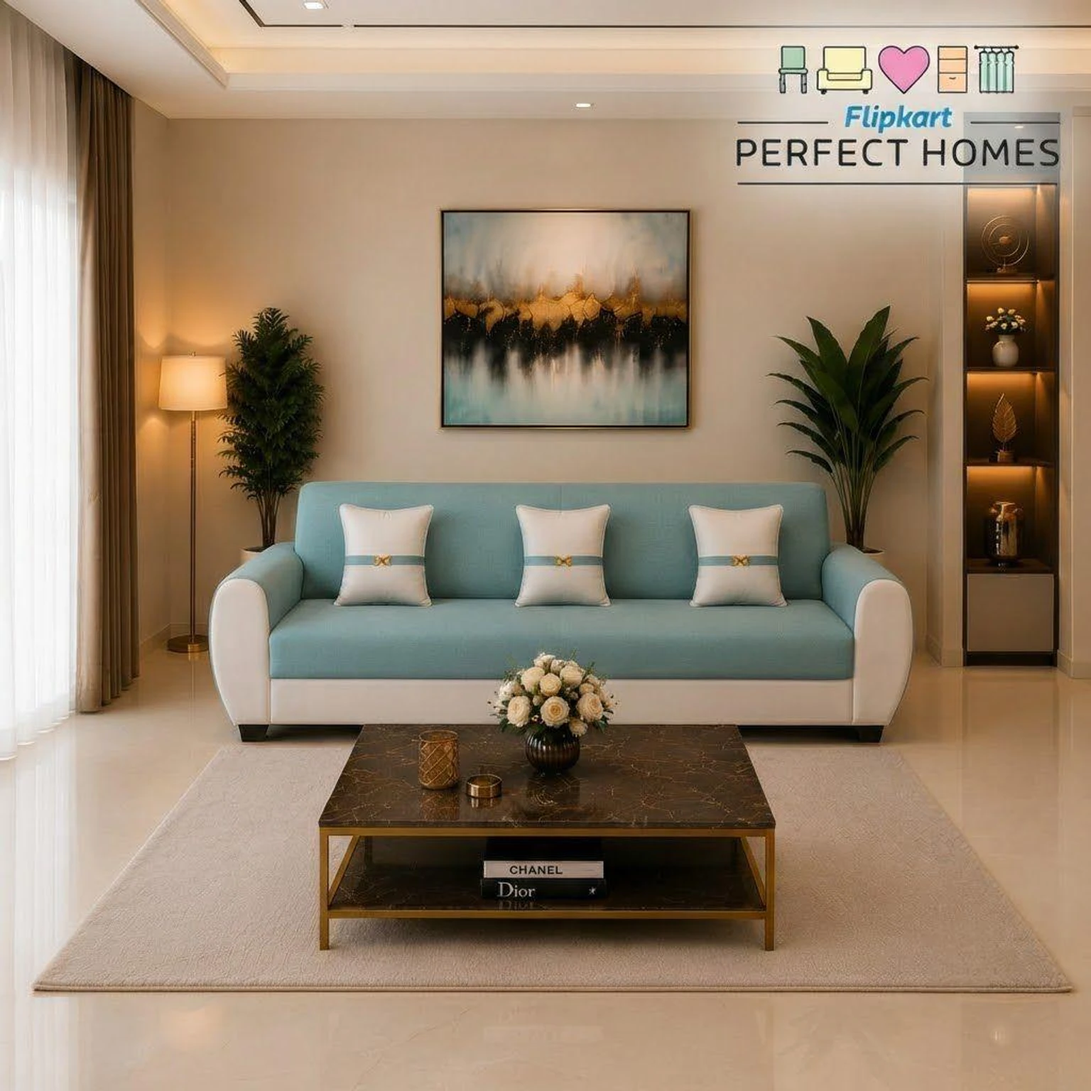3seatersofa: (208, 482, 911, 739)
backrest: (303, 483, 822, 604)
base: (242, 679, 495, 725), (614, 680, 852, 725)
leftarmrest: (823, 545, 912, 725)
leg: (239, 724, 266, 741), (856, 726, 883, 742)
pillow: (336, 504, 432, 604), (689, 504, 784, 604), (516, 505, 609, 604)
rightarmrest: (210, 543, 303, 722)
seat: (268, 598, 852, 695)
